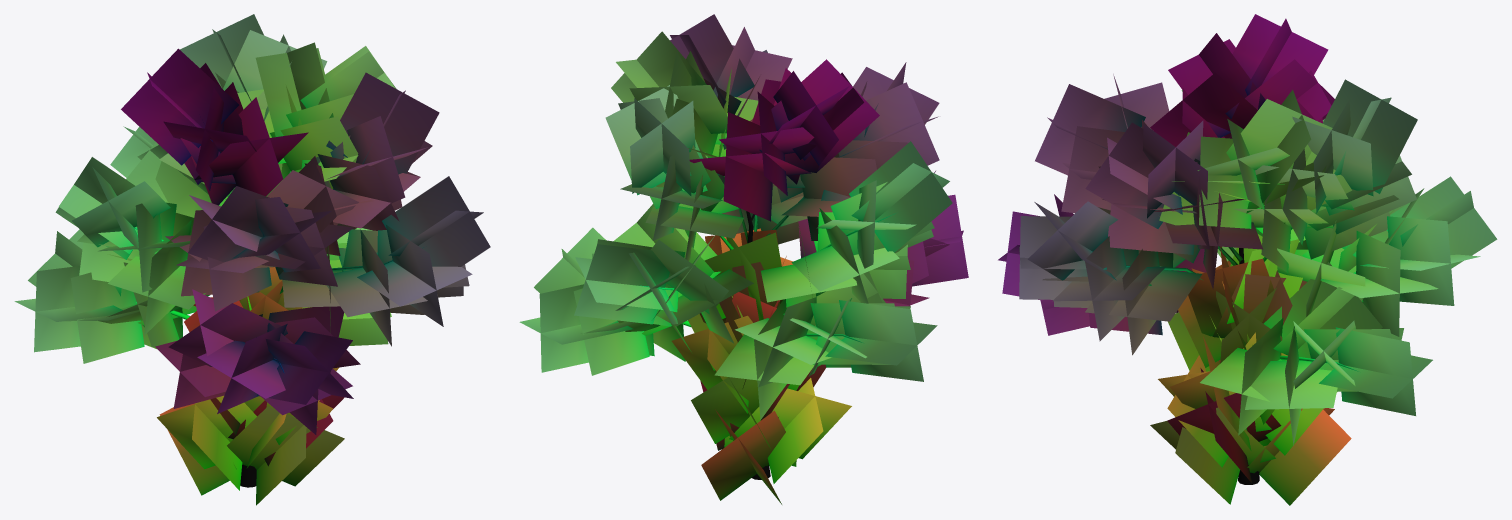
File: URP_P3_Tree_9_LOD_2.fbx
3 views of the same model, side by side, from view 1: azimuth 30°, elevation 25°; view 2: azimuth 150°, elevation 25°; view 3: azimuth 270°, elevation 25° (orthographic).
Visible parts, largest first — view 1: Tree_9_LOD_2; view 2: Tree_9_LOD_2; view 3: Tree_9_LOD_2.
Part boxes in pixels (x1,y1,x2,y2): Tree_9_LOD_2: (14, 14, 490, 505); Tree_9_LOD_2: (519, 14, 968, 504); Tree_9_LOD_2: (998, 14, 1497, 505).
Bounding box in the file's own units: 514 × 604 × 604.
